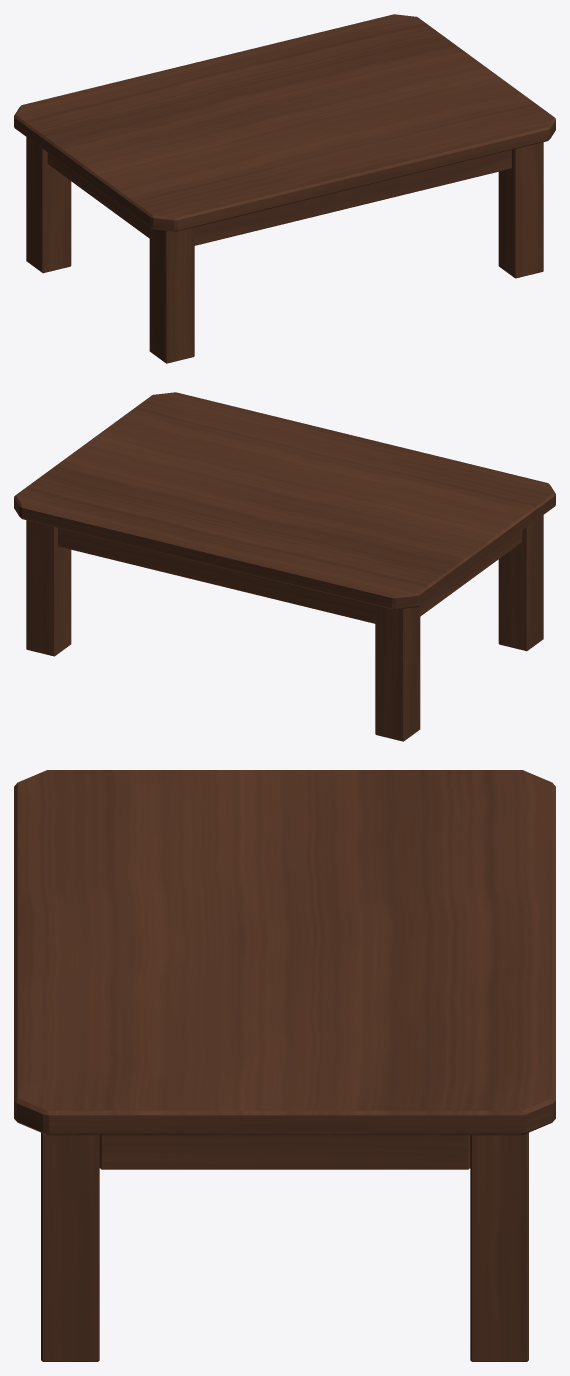
Rendered from 01_Chabudai_Der.fbx.
3 renders of one model, top to bottom at view 1: azimuth 30°, elevation 25°; view 2: azimuth 150°, elevation 25°; view 3: azimuth 270°, elevation 25°, orthographic. The views are drawn at different scales.
Parts seen in each view (by area): view 1: SM_01_Chabudai; view 2: SM_01_Chabudai; view 3: SM_01_Chabudai.
Boxes of the visible parts, x1,y1,x2,y2 form: SM_01_Chabudai: [14, 14, 555, 363]; SM_01_Chabudai: [14, 392, 555, 741]; SM_01_Chabudai: [14, 770, 555, 1361].
Size of the model in its own units: 0.9 by 0.32 by 0.6.
